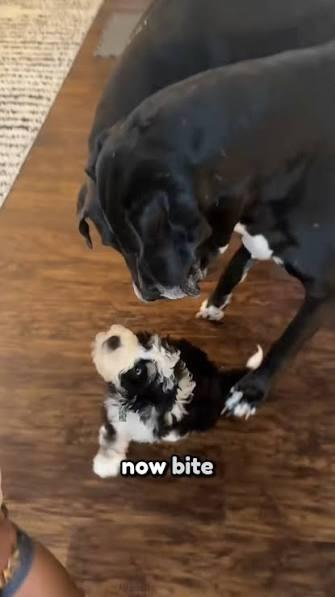adult_dog: (74, 1, 335, 422)
puppy-dog: (91, 323, 265, 480)
